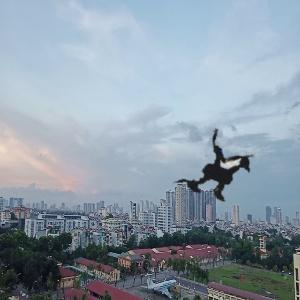drone: (146, 104, 297, 255)
